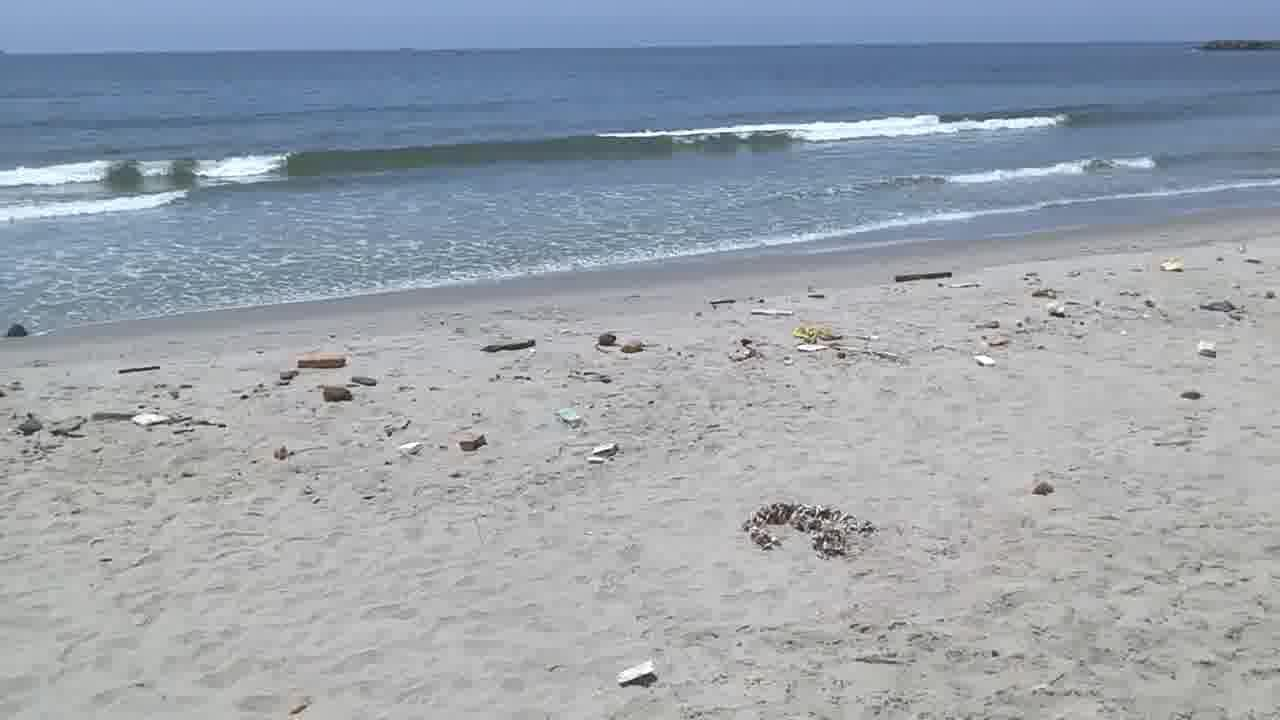obj: (738, 500, 880, 560), (121, 403, 221, 434), (612, 658, 660, 690), (49, 410, 92, 442), (480, 337, 536, 356), (891, 270, 954, 284), (584, 439, 619, 464), (792, 326, 842, 343), (296, 352, 346, 368), (752, 305, 798, 322), (555, 406, 586, 431), (592, 331, 617, 361), (115, 361, 163, 375), (457, 431, 485, 453), (972, 350, 1001, 369), (397, 438, 425, 457), (272, 444, 300, 462), (619, 340, 648, 356), (1034, 479, 1058, 498), (322, 386, 352, 399), (794, 343, 826, 355), (1198, 341, 1218, 360), (942, 282, 982, 289), (1176, 390, 1202, 399)
sand/background: (1, 0, 1279, 347)
